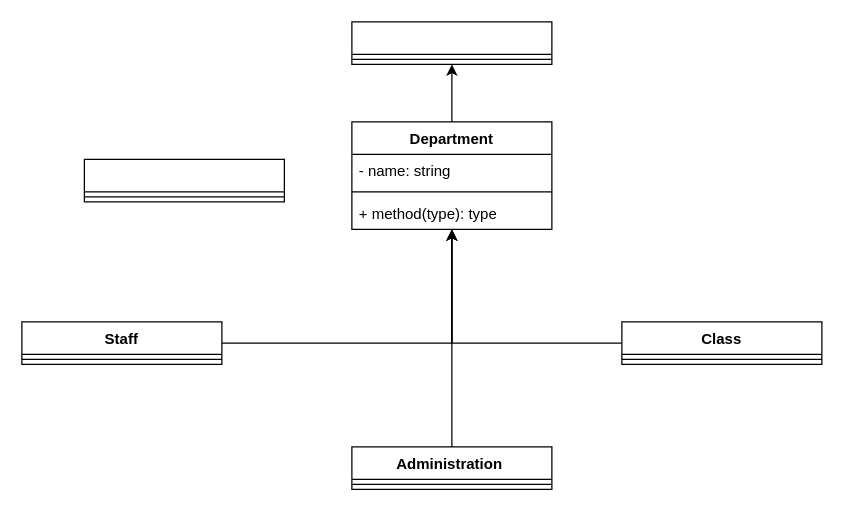
Image size: 844x511. Some labels were removed from this diagram. The box of each missing label's shape, as (x1, y1, x2, y2) in pixels:
Institute: (351, 21, 552, 64)
Member: (83, 158, 284, 202)
